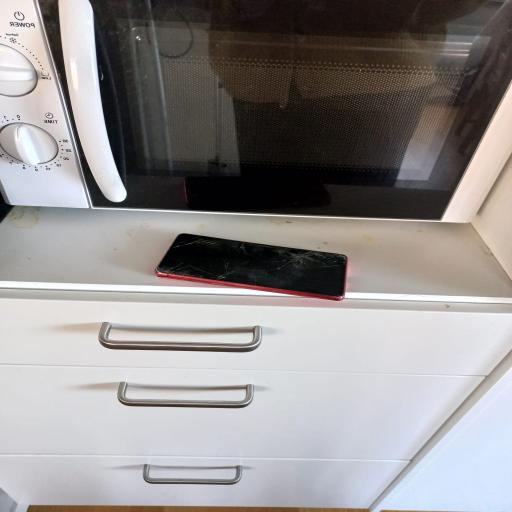phone: (155, 234, 346, 299)
